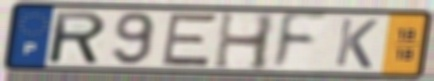9: (111, 10, 158, 67)
E: (158, 11, 221, 69)
F: (269, 11, 331, 74)
H: (210, 10, 278, 72)
K: (332, 16, 381, 71)
R: (48, 10, 109, 66)
